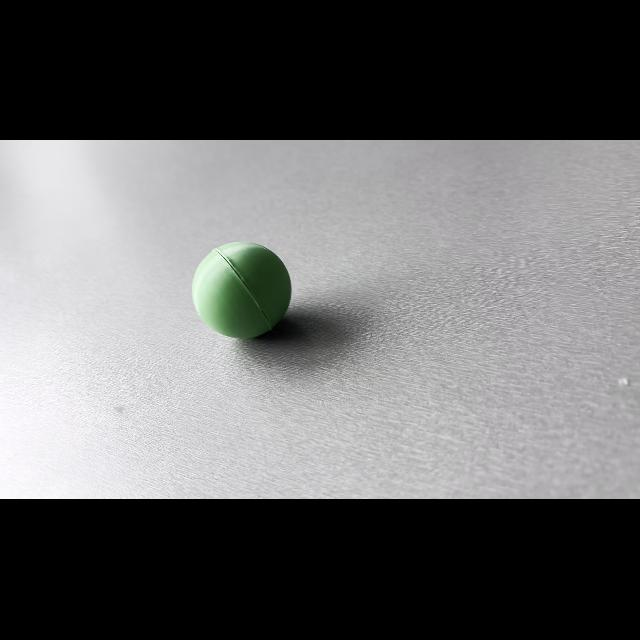objects: (190, 231, 296, 345)
